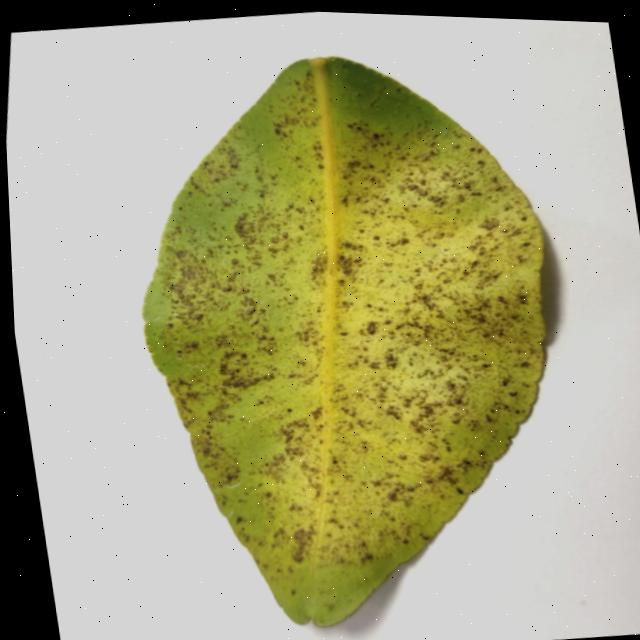melanose: (142, 56, 544, 625)
